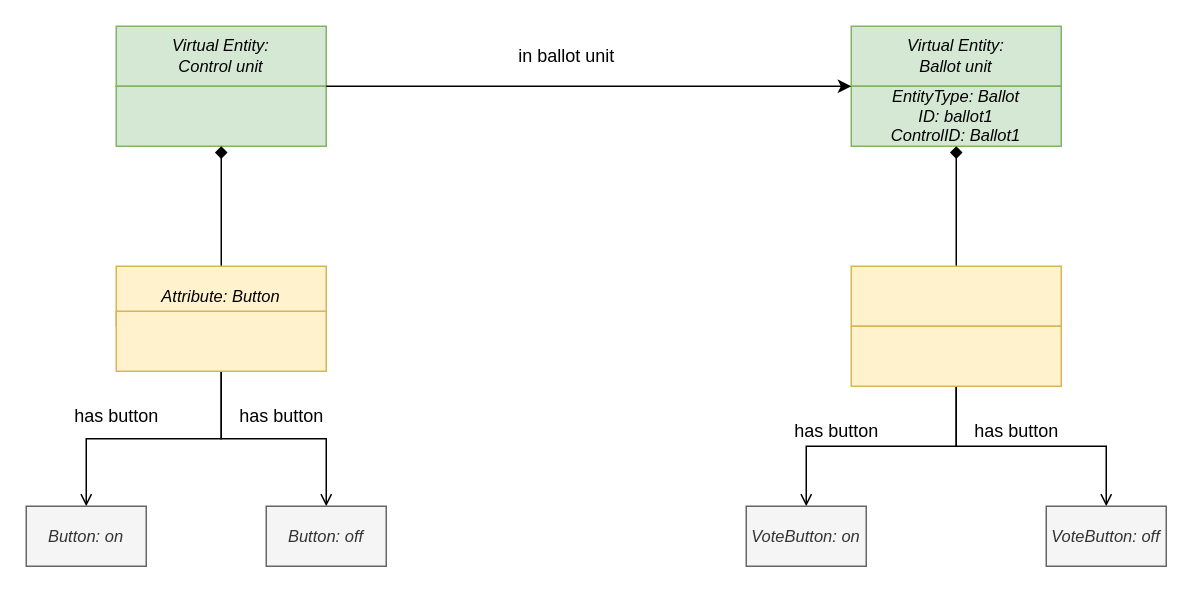
Image size: 1193x593. Some labels were removed from this diagram. The box of each missing label's shape, as (x1, y1, x2, y2) in pixels:
Attribute: VoteButton: (850, 265, 1061, 326)
AttributeName: button1 AttributeType: button: (115, 310, 326, 371)
AttributeName: voteButton AttributeType: button: (850, 325, 1061, 386)
EntityType: Control unit ID: Ballot1: (115, 85, 326, 146)
